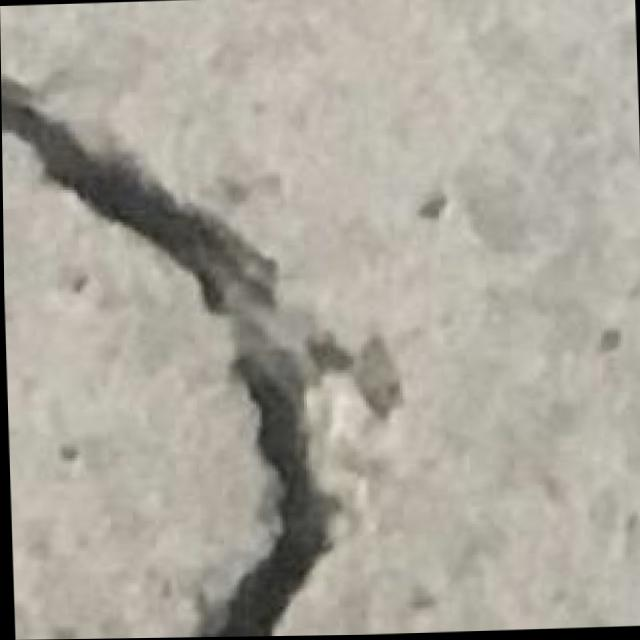Crack: (1, 72, 317, 614)
